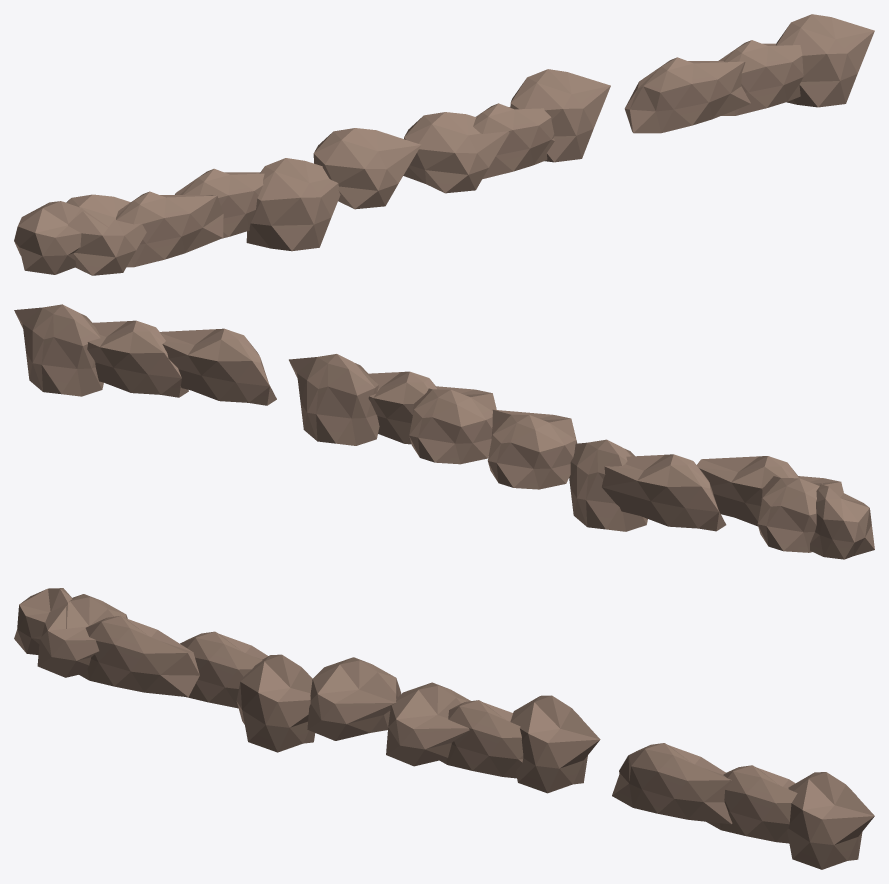
File: shitou01.fbx
3 views of the same model, one above another, from view 1: azimuth 30°, elevation 25°; view 2: azimuth 150°, elevation 25°; view 3: azimuth 330°, elevation 25° (orthographic).
Visible parts, largest first — view 1: shitou01; view 2: shitou01; view 3: shitou01.
Part boxes in pixels (x1,y1,x2,y2): shitou01: [14, 14, 874, 275]; shitou01: [14, 304, 874, 559]; shitou01: [14, 588, 874, 869].
Size of the model in its own units: 68.84 by 7.85 by 8.01.
